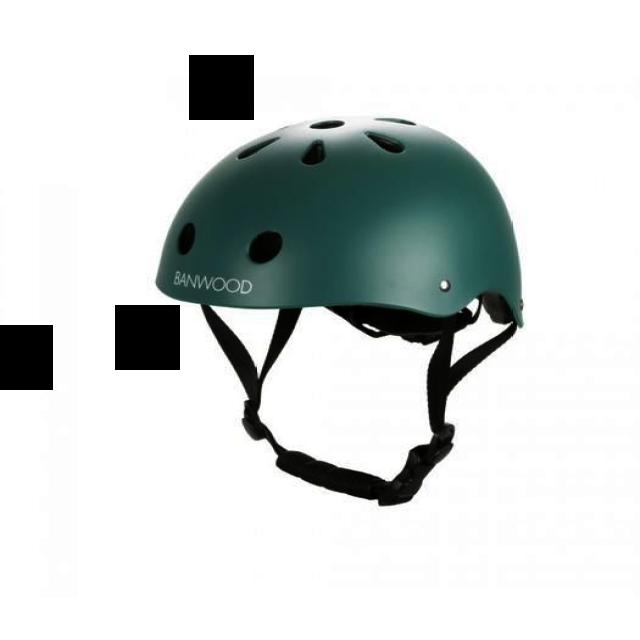Helmet: (154, 115, 526, 331)
